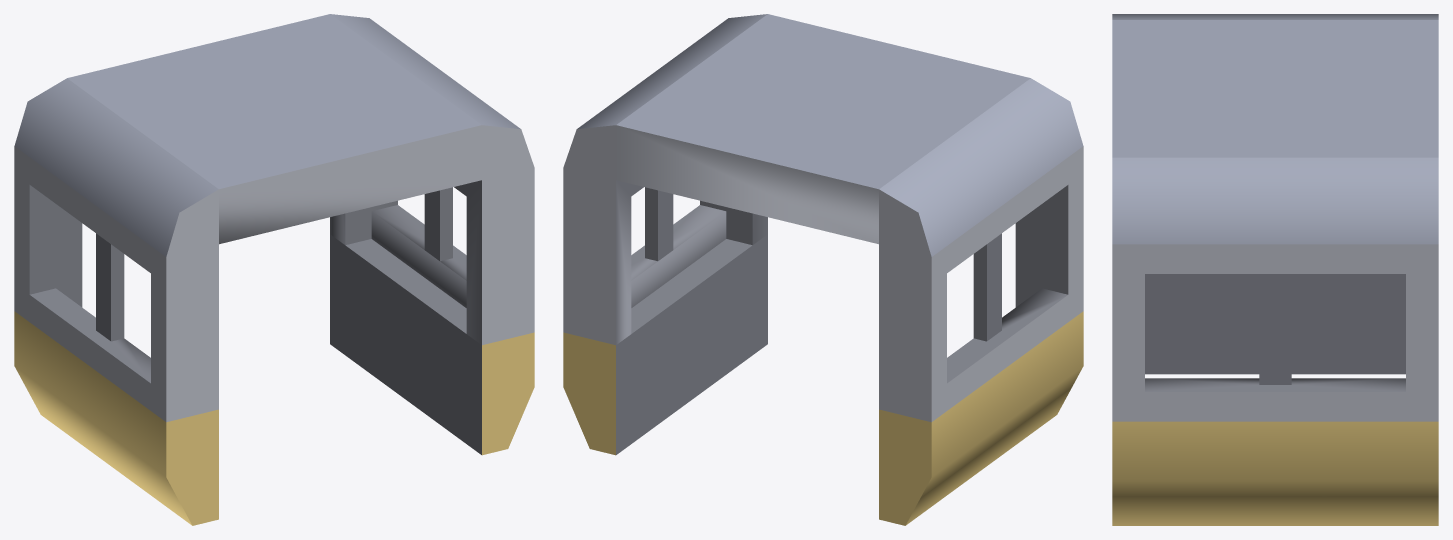
The model's file is cover-stripe-bar.fbx.
3 renders of one model, left to right at view 1: azimuth 30°, elevation 25°; view 2: azimuth 150°, elevation 25°; view 3: azimuth 270°, elevation 25°, orthographic. The views are drawn at different scales.
Parts seen in each view (by area): view 1: cover-stripe-bar; view 2: cover-stripe-bar; view 3: cover-stripe-bar.
Boxes of the visible parts, x1=… form: cover-stripe-bar: x1=14, y1=14, x2=534, y2=525; cover-stripe-bar: x1=563, y1=14, x2=1083, y2=525; cover-stripe-bar: x1=1112, y1=14, x2=1438, y2=525.
Size of the model in its own units: 140 by 120 by 100.
